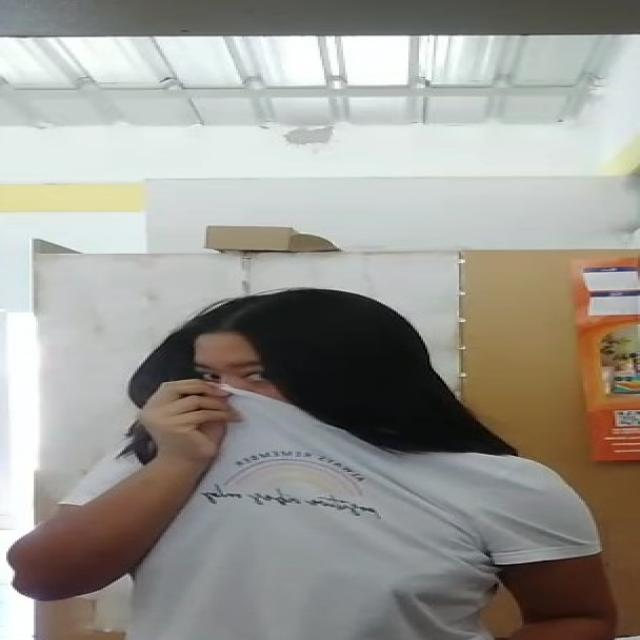8_ropa_rostro: (142, 375, 400, 504)
